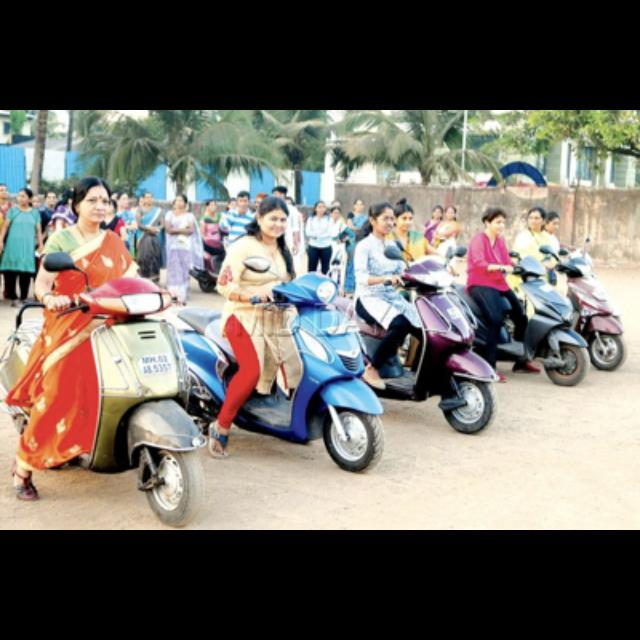Without Helmet: (64, 169, 122, 235), (246, 183, 296, 249), (361, 195, 403, 249), (476, 200, 512, 242)
